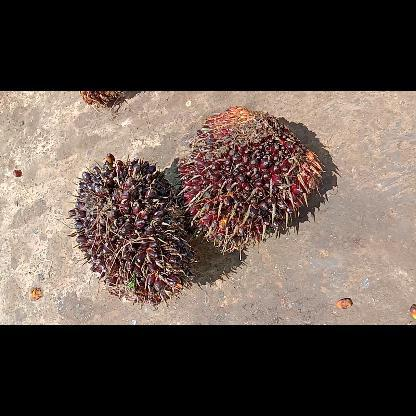TBS mentah: (174, 107, 324, 251), (67, 152, 197, 306)
